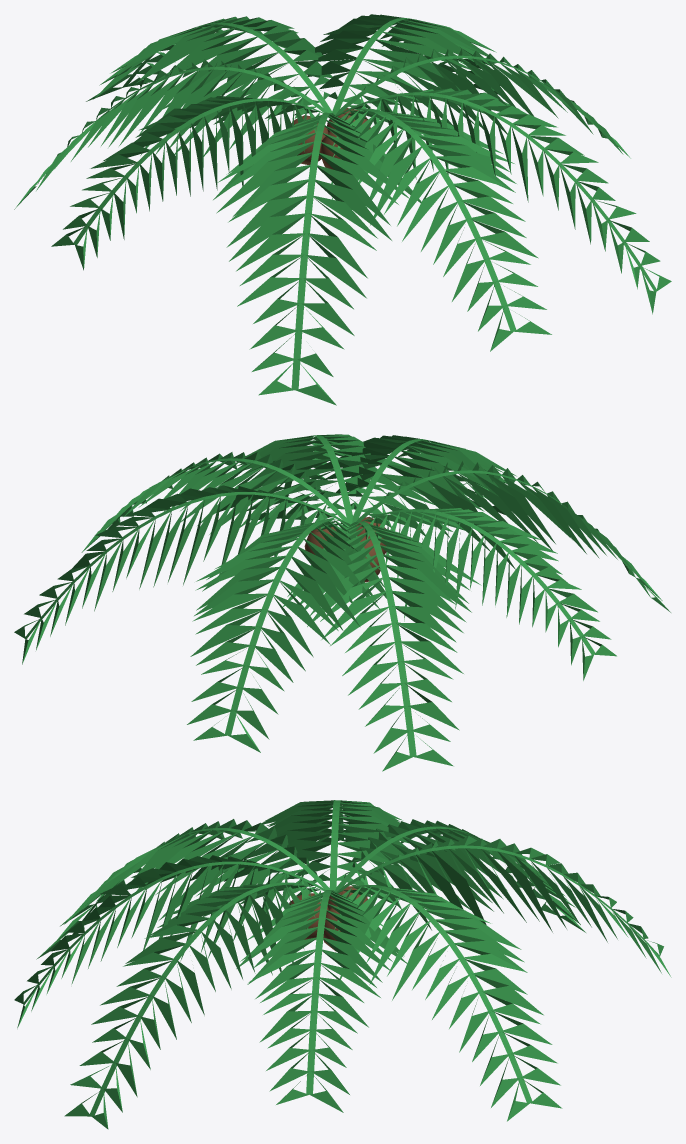
Rendered from palm_crown.glb.
3 views of the same model, one above another, from view 1: azimuth 30°, elevation 25°; view 2: azimuth 150°, elevation 25°; view 3: azimuth 270°, elevation 25° (orthographic). The views are drawn at different scales.
Visible parts, largest first — view 1: Fronds, Coconuts; view 2: Fronds, Coconuts; view 3: Fronds, Coconuts.
Boxes of the visible parts, x1,y1,x2,y2 form: Fronds: (14, 14, 671, 405); Coconuts: (291, 108, 370, 169); Fronds: (14, 434, 670, 771); Coconuts: (304, 516, 386, 582); Fronds: (14, 800, 671, 1129); Coconuts: (289, 886, 367, 951).
Size of the model in its own units: 5.25 by 1.7 by 5.75.
